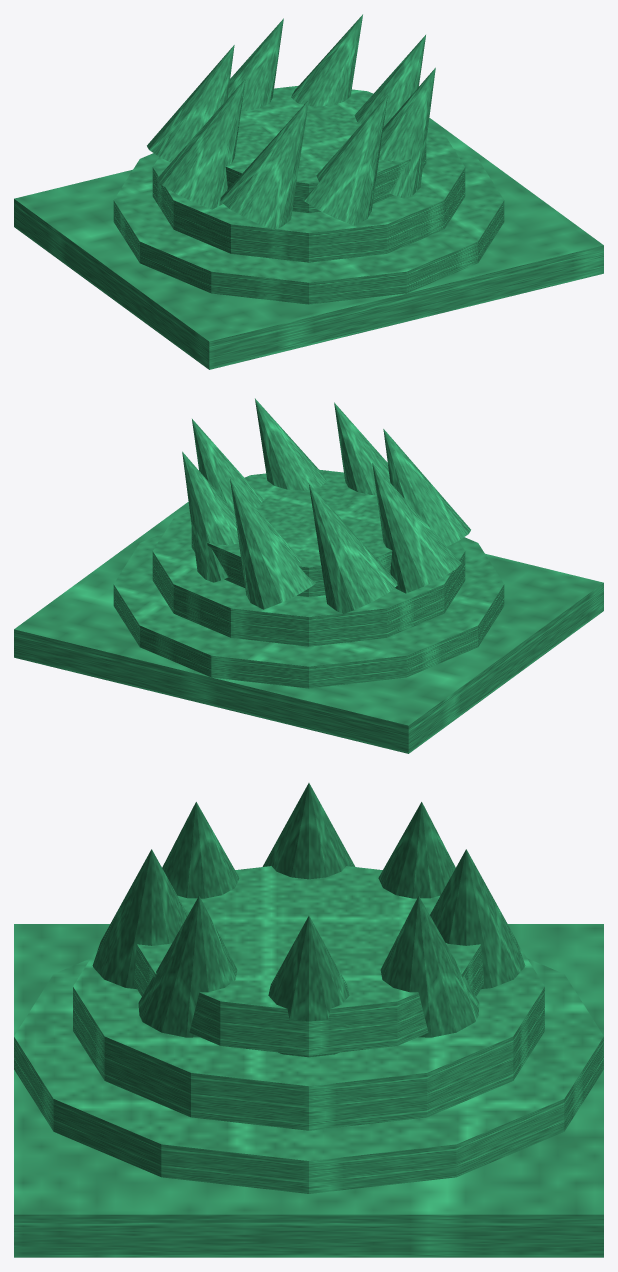
Rendered from lotus_terrace_00.glb.
3 renders of one model, top to bottom at view 1: azimuth 30°, elevation 25°; view 2: azimuth 150°, elevation 25°; view 3: azimuth 270°, elevation 25°, orthographic. The views are drawn at different scales.
Visible parts, largest first — view 1: Foundation, LotusTier, LotusTier.001, LotusTier.002, LotusPetal.005, LotusPetal.006, LotusPetal.004, LotusPetal.007, LotusPetal.003, LotusPetal.001, LotusPetal.002, LotusPetal; view 2: Foundation, LotusTier, LotusTier.001, LotusTier.002, LotusPetal.003, LotusPetal.002, LotusPetal.004, LotusPetal.001, LotusPetal.005, LotusPetal.007, LotusPetal.006, LotusPetal; view 3: Foundation, LotusTier, LotusTier.001, LotusTier.002, LotusPetal.001, LotusPetal.007, LotusPetal.002, LotusPetal.006, LotusPetal, LotusPetal.004, LotusPetal.003, LotusPetal.005.
Part boxes in pixels (x1,y1,x2,y2): Foundation: (14,118,603,369); LotusTier: (113,149,504,304); LotusTier.001: (152,127,465,262); LotusTier.002: (225,85,426,212); LotusPetal.005: (220,99,309,229); LotusPetal.006: (302,95,387,225); LotusPetal.004: (156,79,245,209); LotusPetal.007: (379,67,435,198); LotusPetal.003: (147,45,234,162); LotusPetal.001: (291,14,362,106); LotusPetal.002: (227,18,283,111); LotusPetal: (354,35,425,126); Foundation: (14,502,603,753); LotusTier: (113,533,504,688); LotusTier.001: (152,511,465,646); LotusTier.002: (191,469,392,596); LotusPetal.003: (308,483,397,613); LotusPetal.002: (230,479,315,609); LotusPetal.004: (372,463,461,593); LotusPetal.001: (182,451,238,582); LotusPetal.005: (383,429,470,546); LotusPetal.007: (255,398,326,490); LotusPetal.006: (334,402,390,495); LotusPetal: (192,419,263,510); Foundation: (14,924,603,1257); LotusTier: (14,958,603,1193); LotusTier.001: (73,945,544,1130); LotusTier.002: (134,866,483,1055); LotusPetal.001: (380,896,479,1037); LotusPetal.007: (138,896,237,1037); LotusPetal.002: (430,849,525,989); LotusPetal.006: (92,849,187,989); LotusPetal: (268,916,349,1057); LotusPetal.004: (262,783,355,879); LotusPetal.003: (378,802,455,898); LotusPetal.005: (162,802,239,898).
Bounding box in the file's own units: 3.5 × 1.59 × 3.
Materials: 1 (1 with a texture image).
